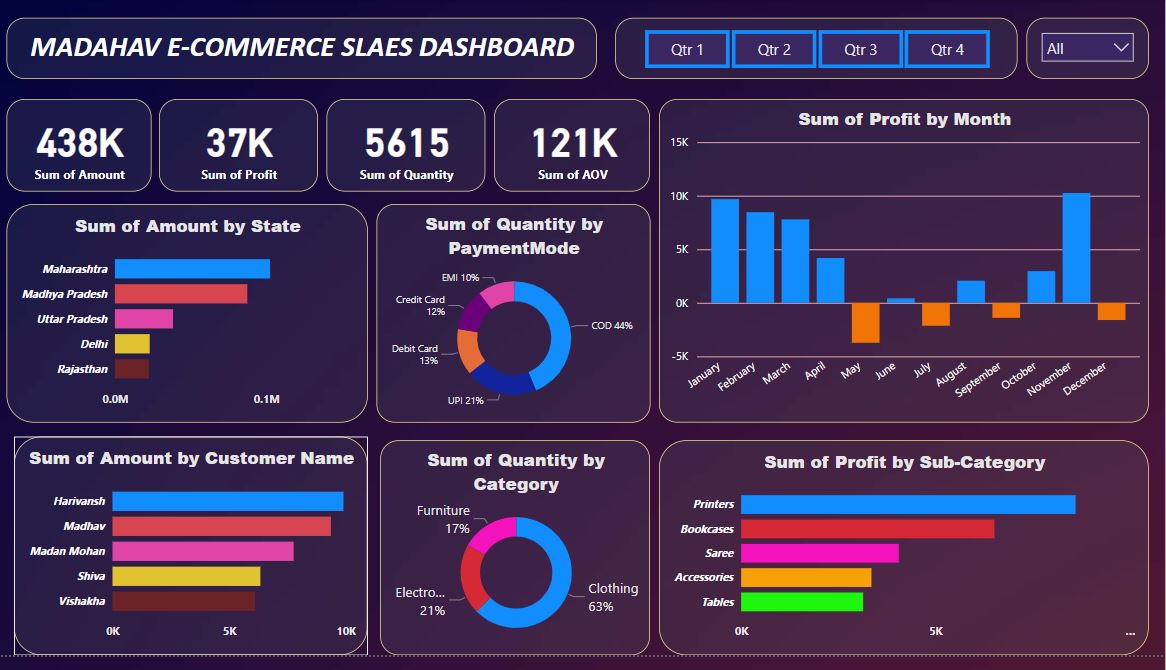

The dashboard page shown, as its layout file describes it:
{"tool":"powerbi","page":{"name":"Page 1","canvas":[1280,720],"ordinal":0},"visuals":[{"type":"textbox","box":[8.2,20.6,647.7,67.2],"z":0},{"type":"columnChart","title":"Sum of Profit by Month","fields":{"Category":["Orders.Order Date.Variation.Date Hierarchy.Month"],"Y":["Sum(Details.Profit)"]},"box":[724.5,109.8,537.9,355.4],"z":1000},{"type":"barChart","fields":{"Category":["Details.Sub-Category"],"Y":["Sum(Details.Profit)"]},"box":[724.5,484.4,537.9,236],"z":2000},{"type":"donutChart","fields":{"Category":["Details.Category"],"Y":["Sum(Details.Quantity)"]},"box":[418.5,484.4,296.4,236],"z":3000},{"type":"donutChart","title":"Sum of Quantity by PaymentMode","fields":{"Y":["Sum(Details.Quantity)"],"Category":["Details.PaymentMode"]},"box":[414.4,225,300.5,240.1],"z":4000},{"type":"card","fields":{"Values":["Sum(Details.Amount)"]},"box":[8.2,109.8,159.2,101.5],"z":5000},{"type":"card","fields":{"Values":["Sum(Details.Quantity)"]},"box":[359.5,109.8,174.3,101.5],"z":6000},{"type":"card","fields":{"Values":["Sum(Details.Profit)"]},"box":[175.6,109.8,174.3,101.5],"z":7000},{"type":"card","fields":{"Values":["Sum(Details.AOV)"]},"box":[543.4,109.8,171.5,101.5],"z":8000},{"type":"barChart","fields":{"Category":["Orders.State"],"Y":["Sum(Details.Amount)"]},"box":[8.2,225,396.6,240.1],"z":9000},{"type":"barChart","title":"Sum of Amount by Customer Name","fields":{"Category":["Orders.CustomerName"],"Y":["Sum(Details.Amount)"]},"box":[16.5,480.3,388.3,240.1],"z":10000},{"type":"slicer","fields":{"Values":["Orders.Order Date.Variation.Date Hierarchy.Quarter"]},"box":[676.5,20.6,441.9,67.2],"z":11000},{"type":"slicer","fields":{"Values":["Orders.State"]},"box":[1128,20.6,134.5,67.2],"z":12000}]}

Visuals, with their boxes in screenshot pixels (x1, y1, x2, y2), scaled from the page's 1280x720 canvas onto the 1166x670 screenshot:
textbox: {"x1": 7, "y1": 19, "x2": 597, "y2": 82}
"Sum of Profit by Month" columnChart: {"x1": 660, "y1": 102, "x2": 1150, "y2": 433}
barChart - Details.Sub-Category x Sum(Details.Profit): {"x1": 660, "y1": 451, "x2": 1150, "y2": 669}
donutChart - Details.Category x Sum(Details.Quantity): {"x1": 381, "y1": 451, "x2": 651, "y2": 669}
"Sum of Quantity by PaymentMode" donutChart: {"x1": 377, "y1": 209, "x2": 651, "y2": 433}
card - Sum(Details.Amount): {"x1": 7, "y1": 102, "x2": 152, "y2": 197}
card - Sum(Details.Quantity): {"x1": 327, "y1": 102, "x2": 486, "y2": 197}
card - Sum(Details.Profit): {"x1": 160, "y1": 102, "x2": 319, "y2": 197}
card - Sum(Details.AOV): {"x1": 495, "y1": 102, "x2": 651, "y2": 197}
barChart - Orders.State x Sum(Details.Amount): {"x1": 7, "y1": 209, "x2": 369, "y2": 433}
"Sum of Amount by Customer Name" barChart: {"x1": 15, "y1": 447, "x2": 369, "y2": 669}
slicer - Orders.Order Date.Variation.Date Hierarchy.Quarter: {"x1": 616, "y1": 19, "x2": 1019, "y2": 82}
slicer - Orders.State: {"x1": 1028, "y1": 19, "x2": 1150, "y2": 82}
